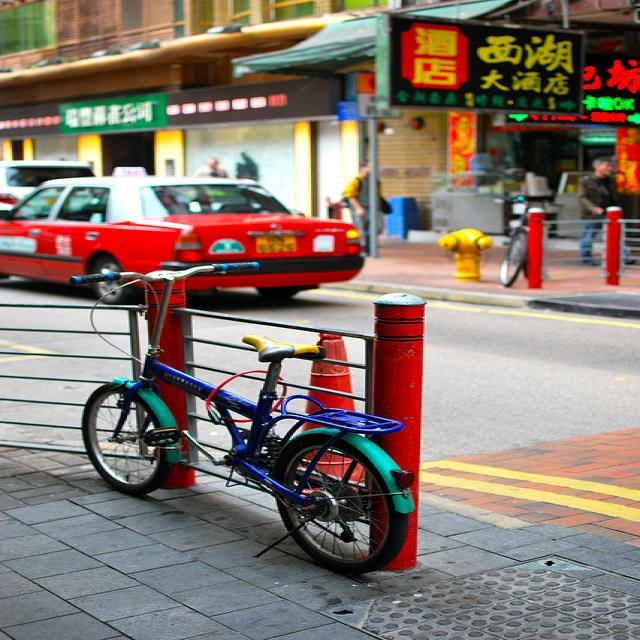Vehicle: (0, 167, 364, 300), (0, 161, 97, 218)
